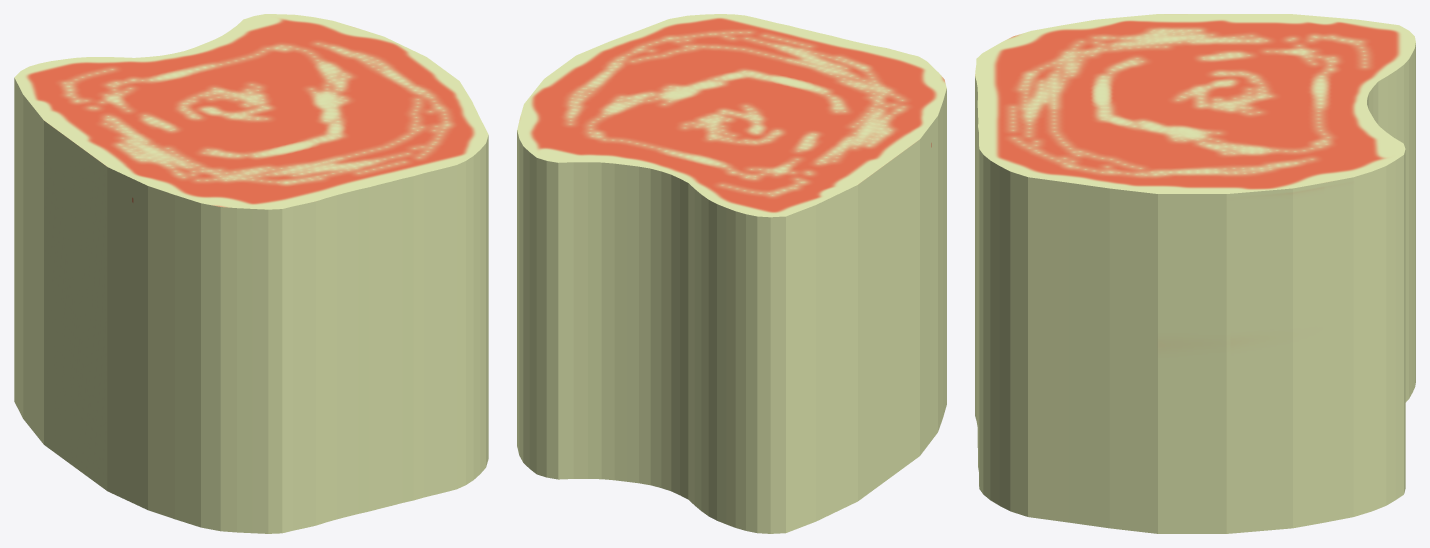
Rendered from rawMeat.fbx.
3 renders of one model, left to right at view 1: azimuth 30°, elevation 25°; view 2: azimuth 150°, elevation 25°; view 3: azimuth 270°, elevation 25°, orthographic. The views are drawn at different scales.
Visible parts, largest first — view 1: Cube; view 2: Cube; view 3: Cube.
Part boxes in pixels (<box>): Cube: <box>14,14,488,533</box>; Cube: <box>517,14,946,533</box>; Cube: <box>975,14,1415,533</box>.
Size of the model in its own units: 200 by 176 by 207.
1 material, 1 textured.
